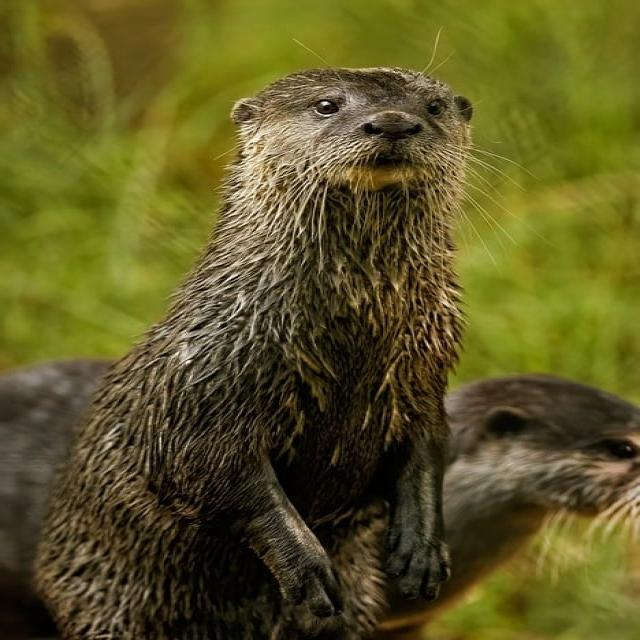Carnivorous: (30, 67, 475, 640), (365, 374, 640, 640), (0, 359, 112, 640)
